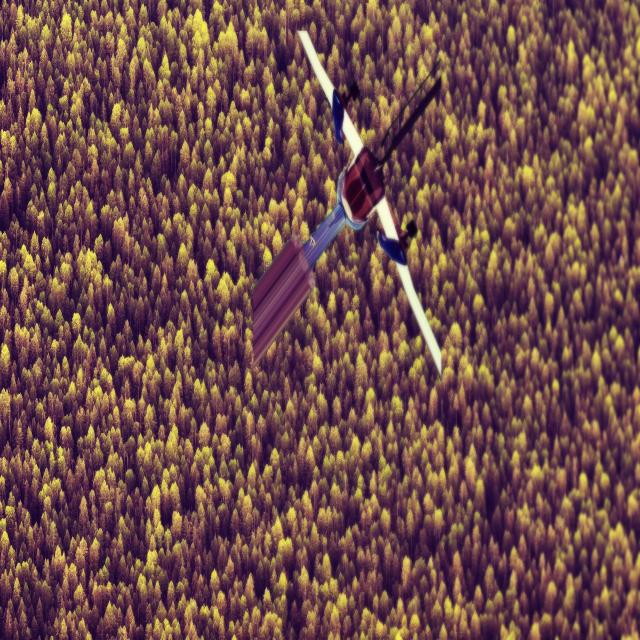airplane: (248, 28, 444, 379)
